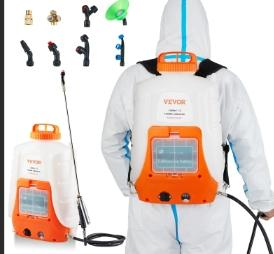PULVERISATEUR: (9, 5, 266, 254)
